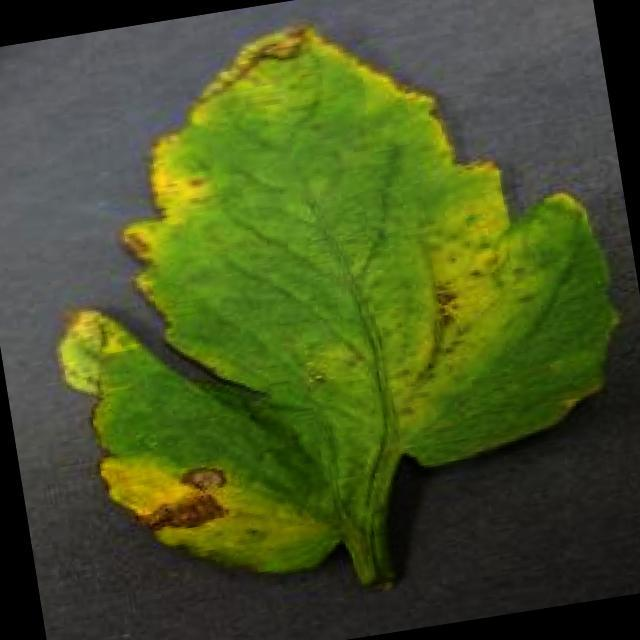Tomato bacterial spot leaf: (12, 0, 640, 610)
